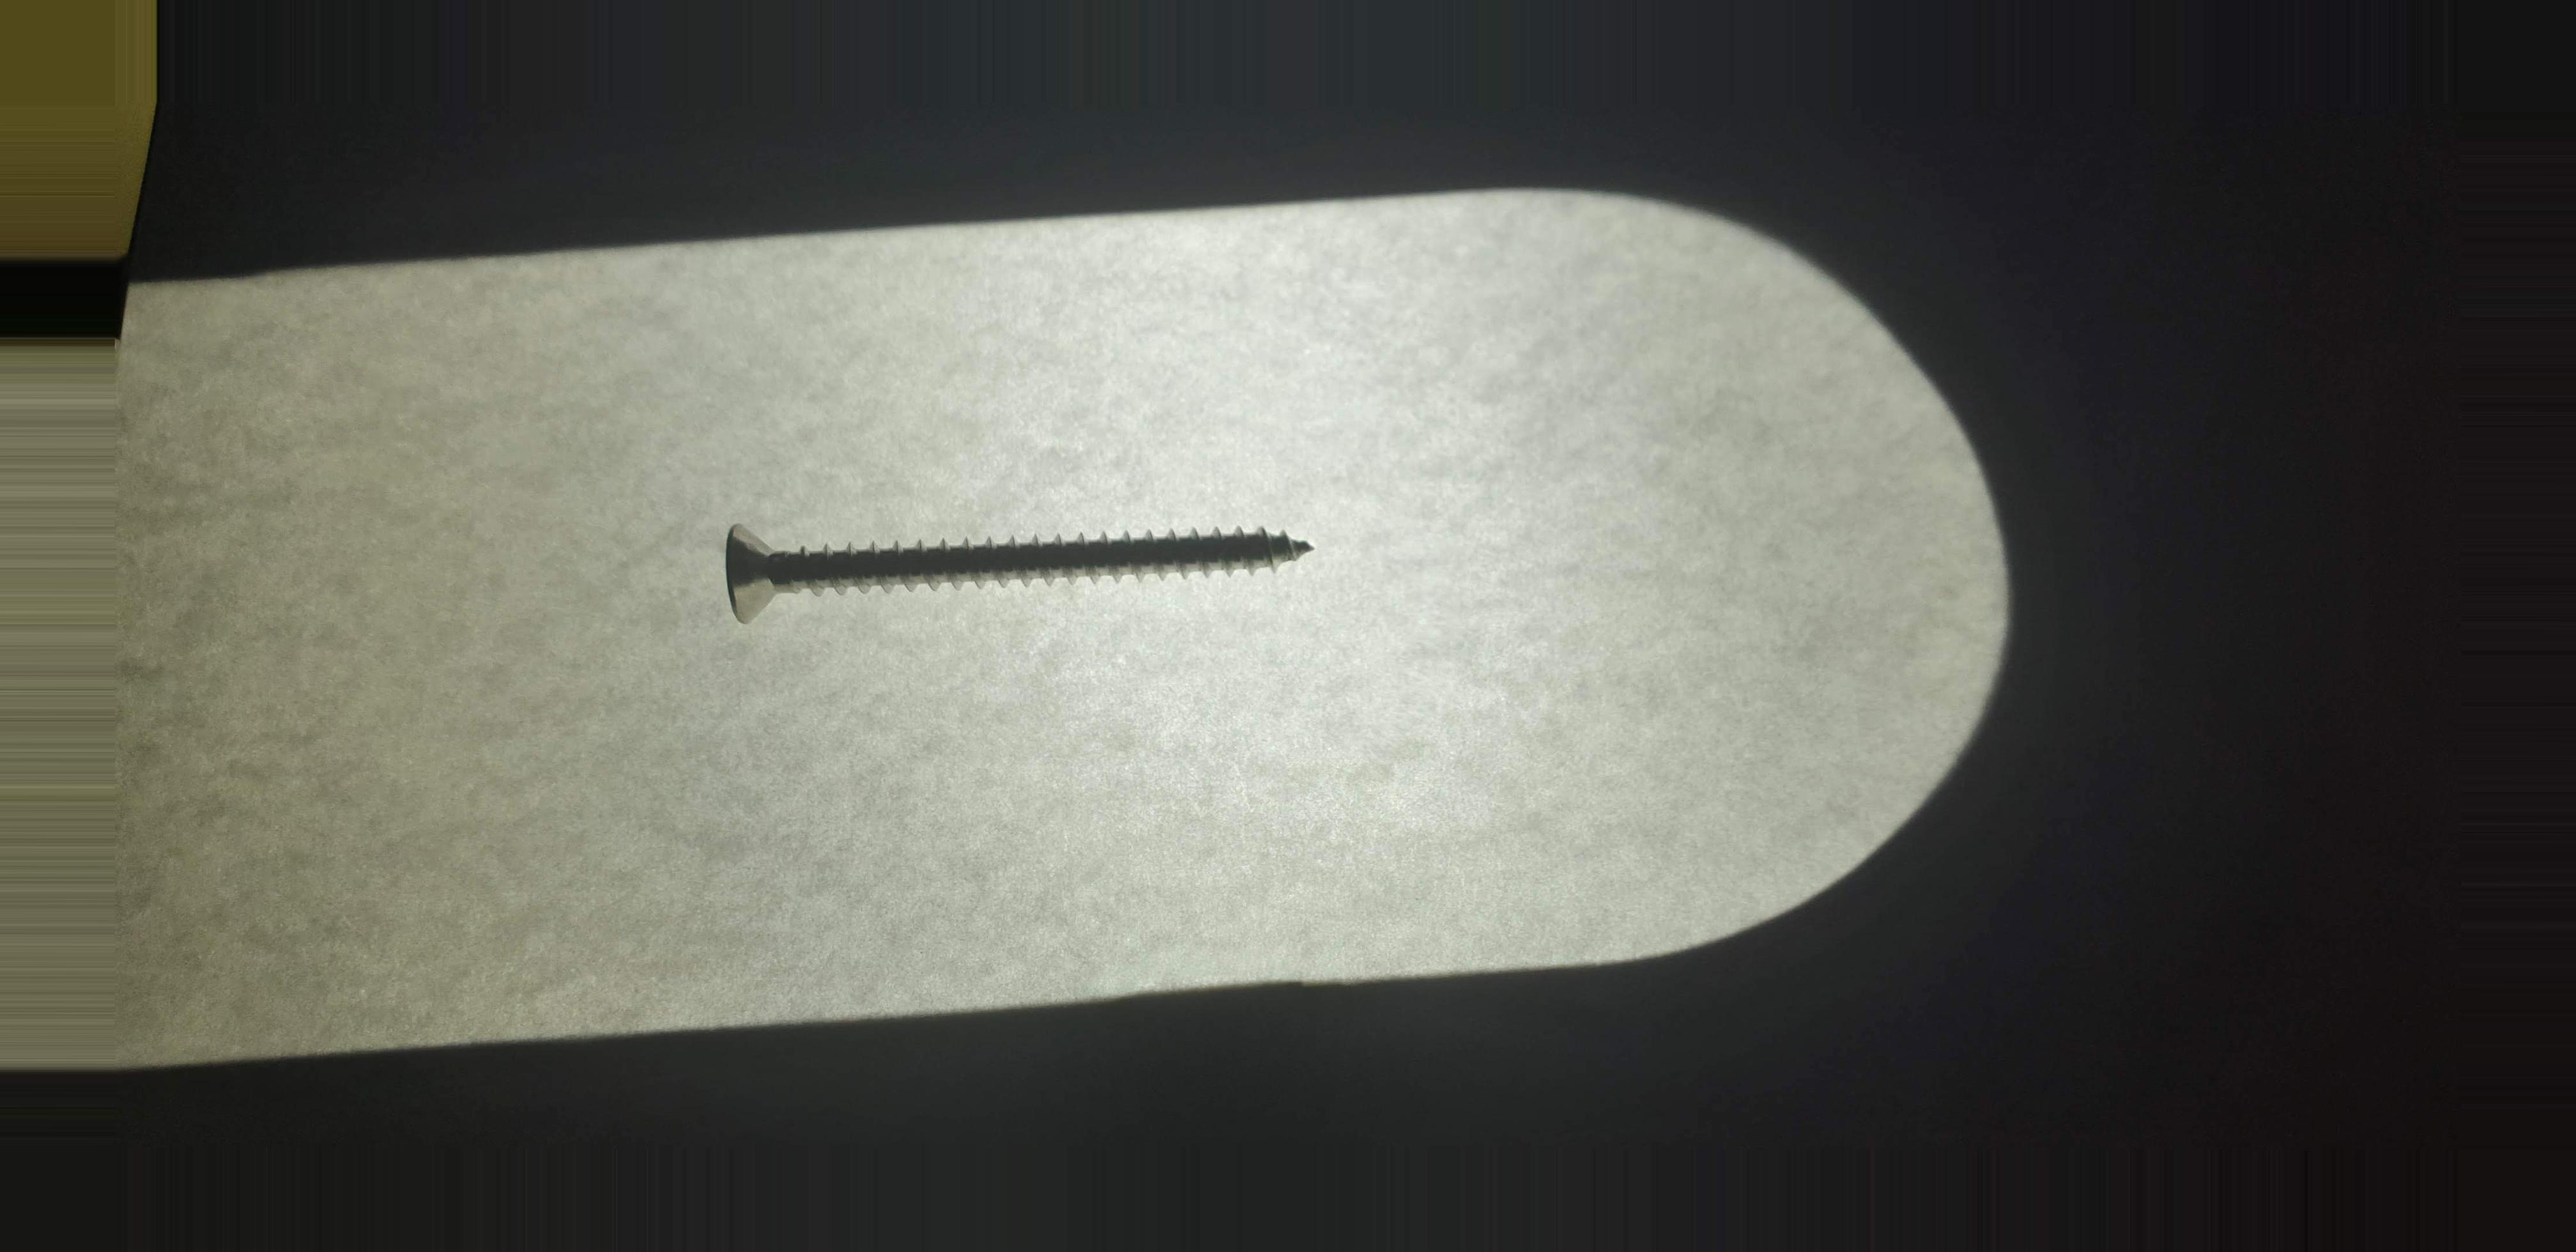S001: (675, 472, 1368, 646)
